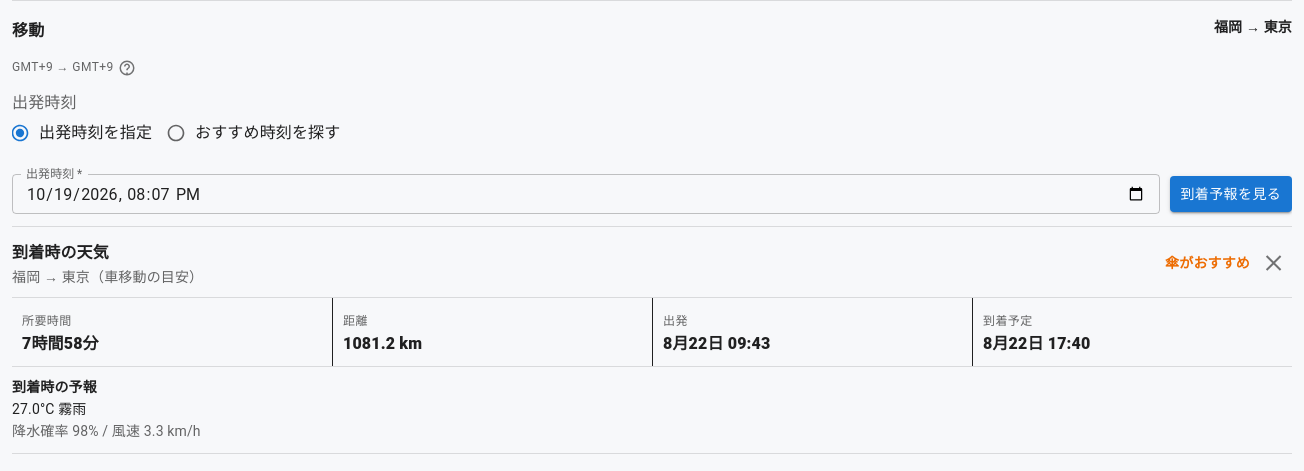
TravelSection result card › closes the arrival weather result when the close button is clicked
Expected: the heading "到着時の天気" is shown, [12,243,109,262]
Expected: the text "福岡 → 東京（車移動の目安）" is shown, [12,267,203,287]
Click the button named "閉じる": (1275, 263) [1258,246,1292,280]
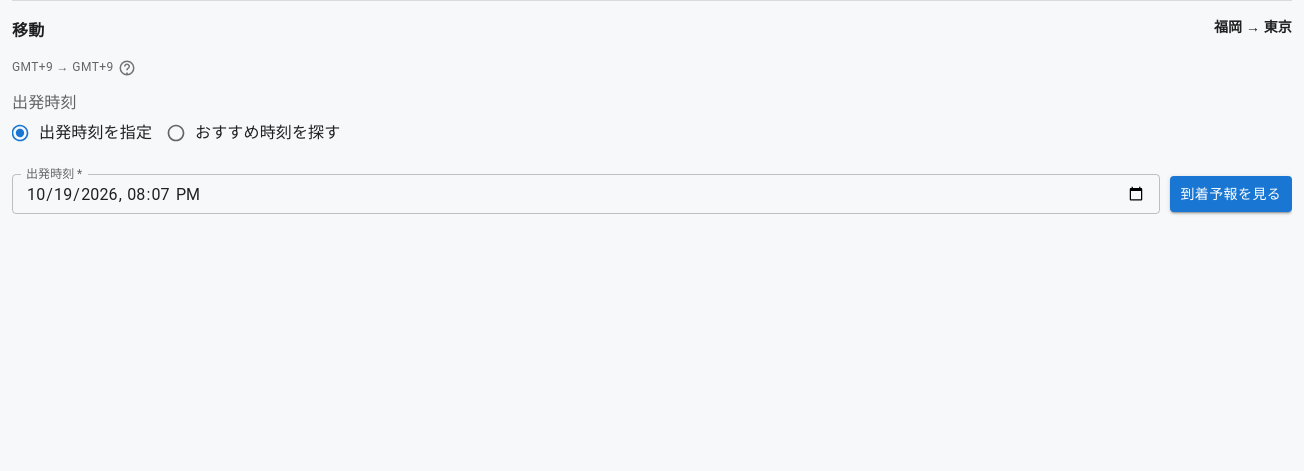
Expected: the heading "到着時の天気" is gone
